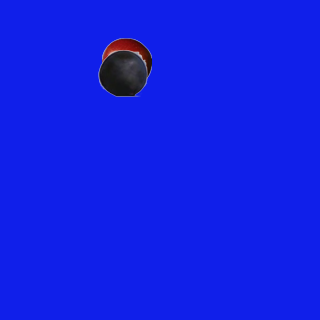Apple Braeburn: (101, 37, 151, 87)
Grape Blue: (97, 47, 147, 97)
